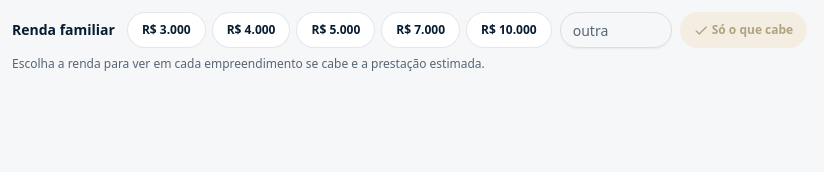
Scenario: RendaCliente › 'Só o que cabe' só funciona com renda escolhida
The width and height of the screenshot is (824, 172).
expect the button "Só o que cabe" is disabled: met, box left=680, top=12, right=807, bottom=48
Click the button "R$ 4.000". click: x=251, y=30
box: left=212, top=12, right=290, bottom=48
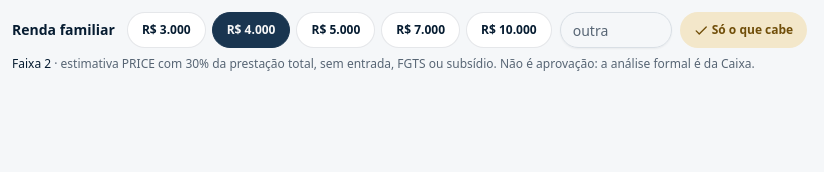
expect the button "Só o que cabe" is enabled: met
Click the button "Só o que cabe". click: x=743, y=30
box: left=680, top=12, right=807, bottom=48
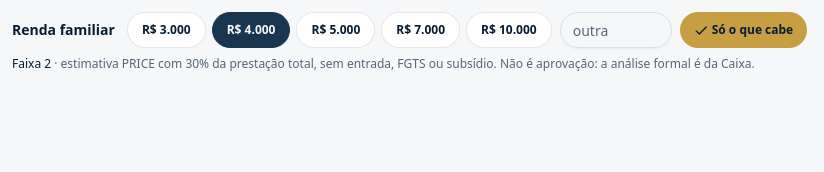
expect the button "Só o que cabe" is pressed: met, box left=680, top=12, right=807, bottom=48
